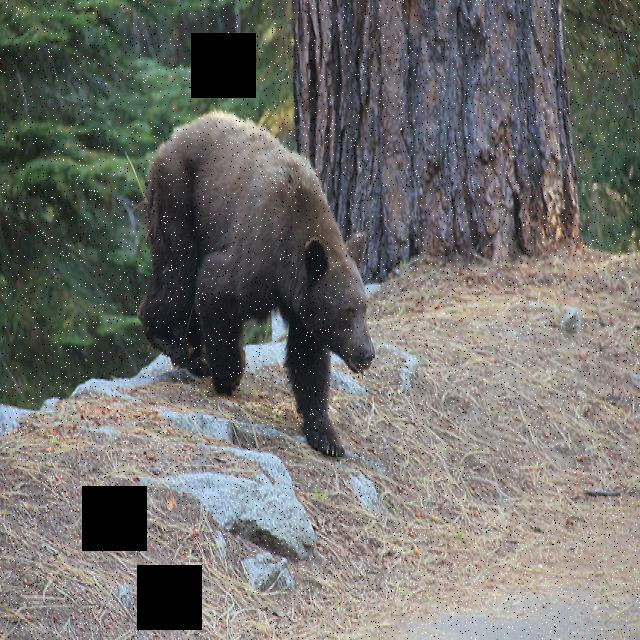Bear: (143, 112, 379, 462)
